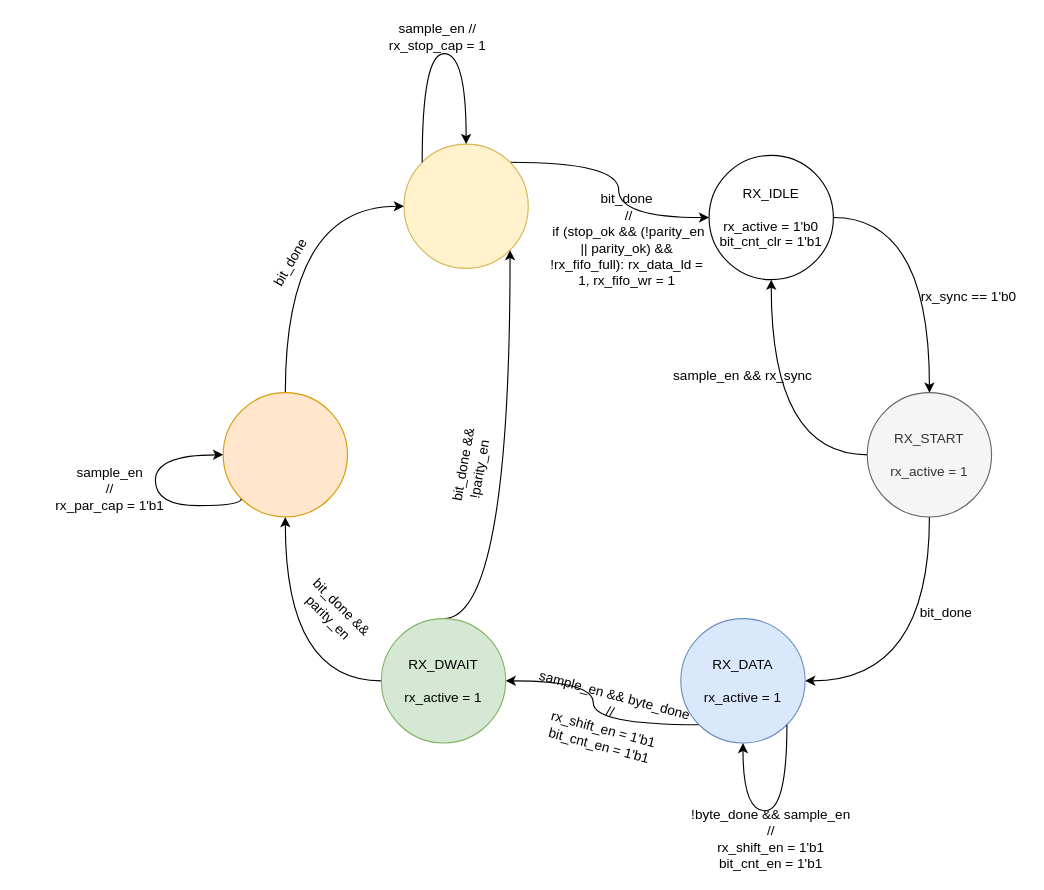
This 1044x890 diagram has some shape labels left out. Here are the shapes that lost their labels. From the top down, the centre of each, then its label:
At (x=465, y=205): "RX_STOP rx_active = 1".
At (x=284, y=454): "RX_PARITY rx_active = 1".
